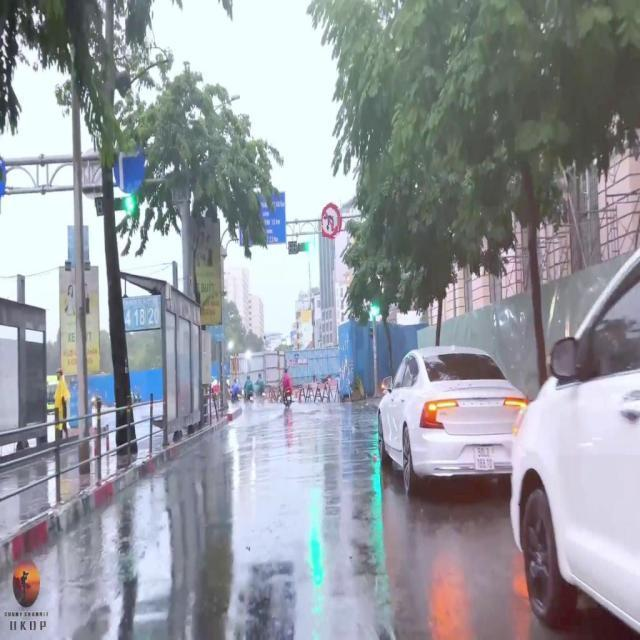124c-cam-re-trai-va-cam-quay-dau-xe: (322, 202, 342, 240)
301d-cac-xe-chi-duoc-re-phai-2: (112, 136, 148, 194)
